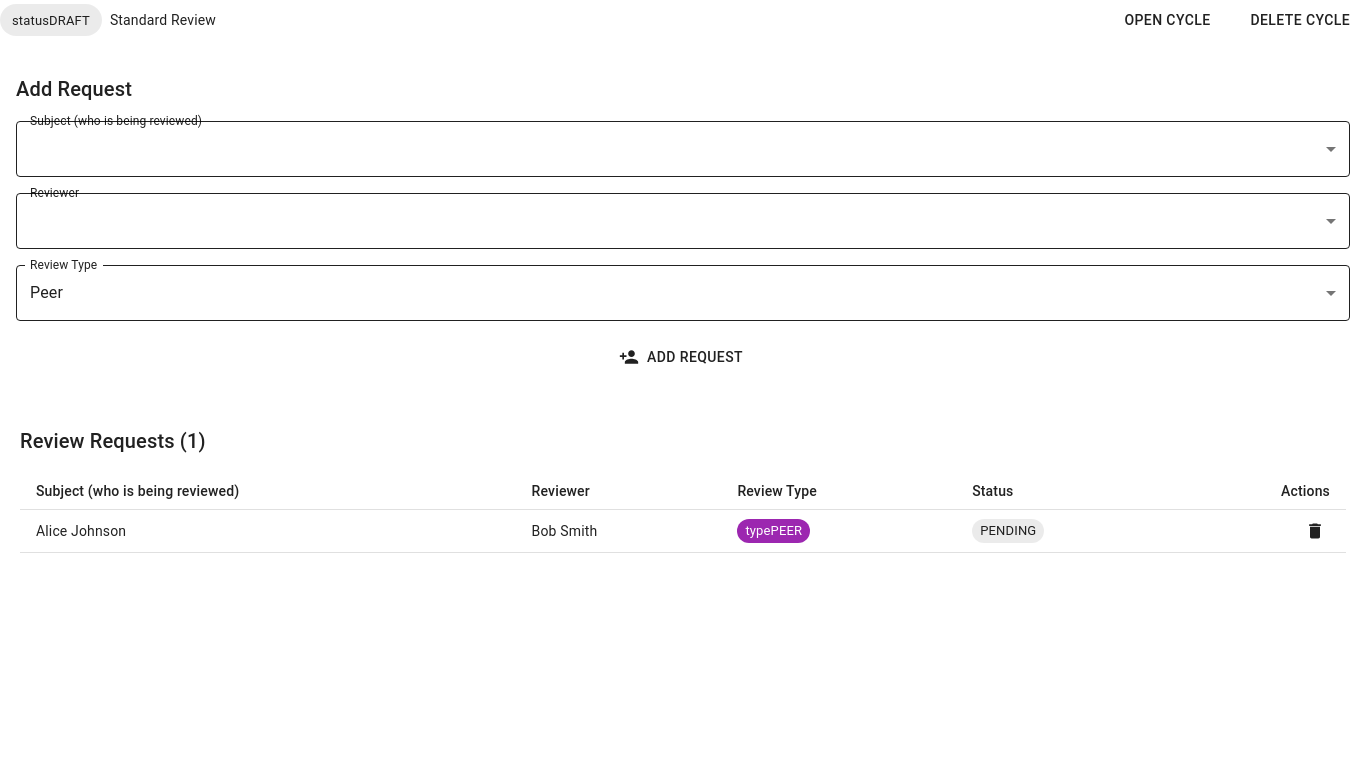
Test case: ReviewCycleDetailClient › opens delete cycle confirm dialog
Click the button "Delete Cycle" at (1300, 20), box [1234, 0, 1365, 40]
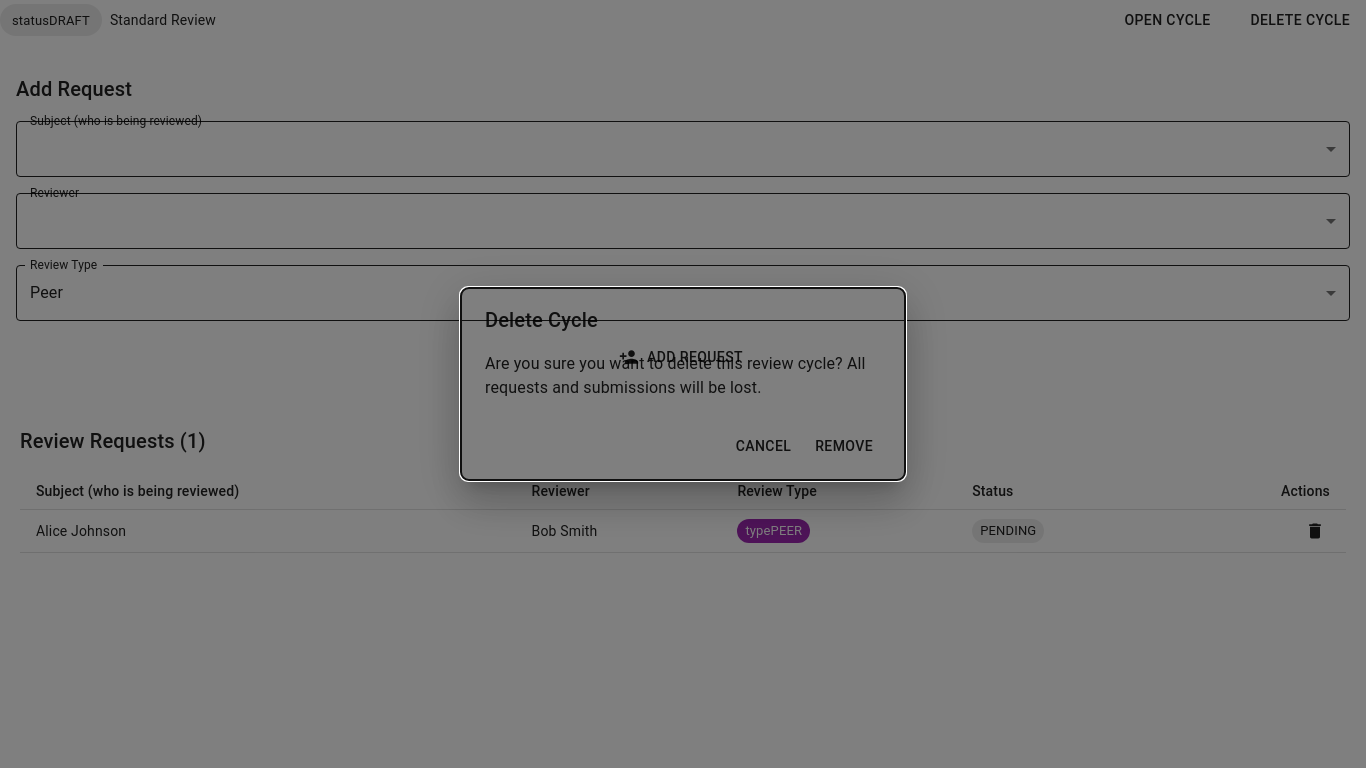
Expected: the text "Are you sure you want to delete this review cycle? All requests and submissions will be lost." is shown, [485, 354, 866, 397]
